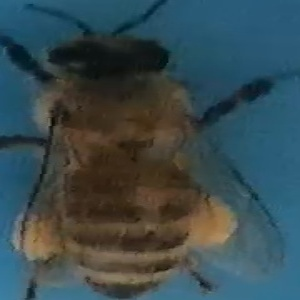bee: (7, 2, 292, 300)
